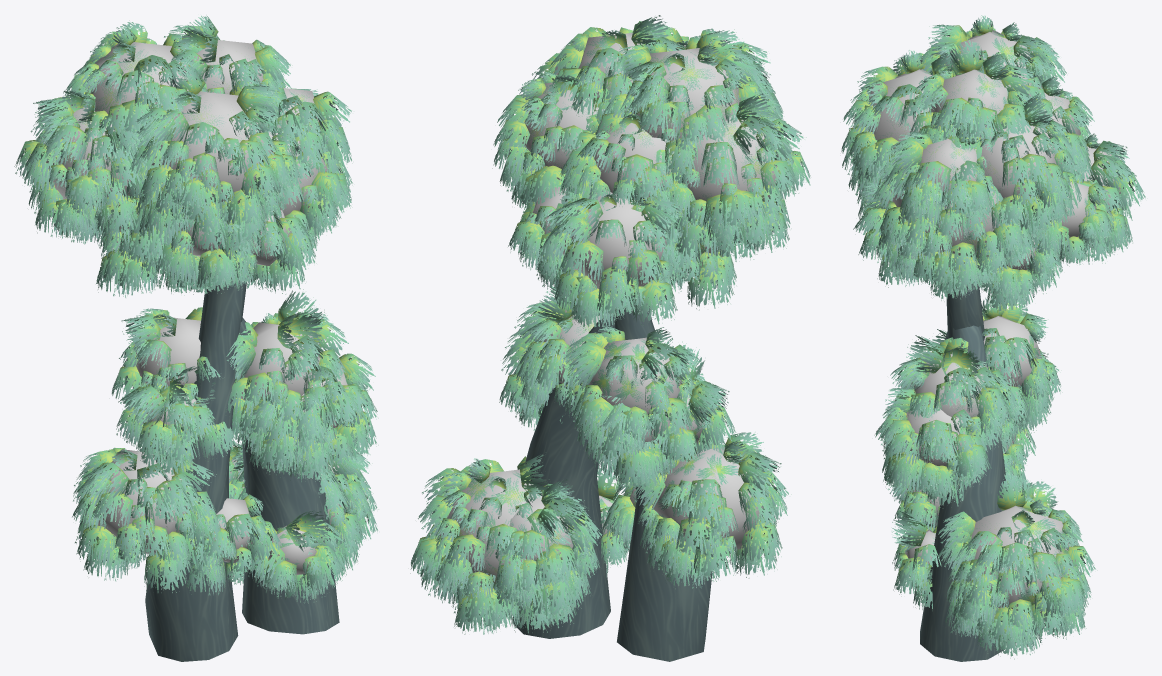
Rendered from MotherTree.fbx.
The picture shows the model from 3 angles, left to right: view 1: azimuth 30°, elevation 25°; view 2: azimuth 150°, elevation 25°; view 3: azimuth 270°, elevation 25°; orthographic projection. The views are drawn at different scales.
Parts seen in each view (by area): view 1: MotherTree.001; view 2: MotherTree.001; view 3: MotherTree.001.
Boxes of the visible parts, bbox=[...] form: MotherTree.001: bbox=[14, 15, 378, 661]; MotherTree.001: bbox=[410, 15, 810, 661]; MotherTree.001: bbox=[841, 15, 1145, 661].
Bounding box in the file's own units: 15.91 × 26.71 × 13.2.
